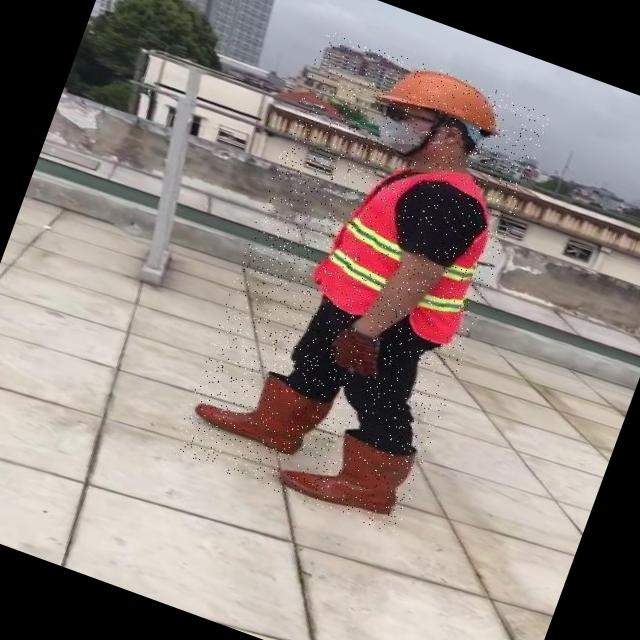hard_hat: (374, 54, 518, 144)
safety_vest: (308, 145, 508, 350)
vehicle: (172, 28, 552, 536)
work_boots: (188, 350, 333, 462), (281, 420, 415, 528)
